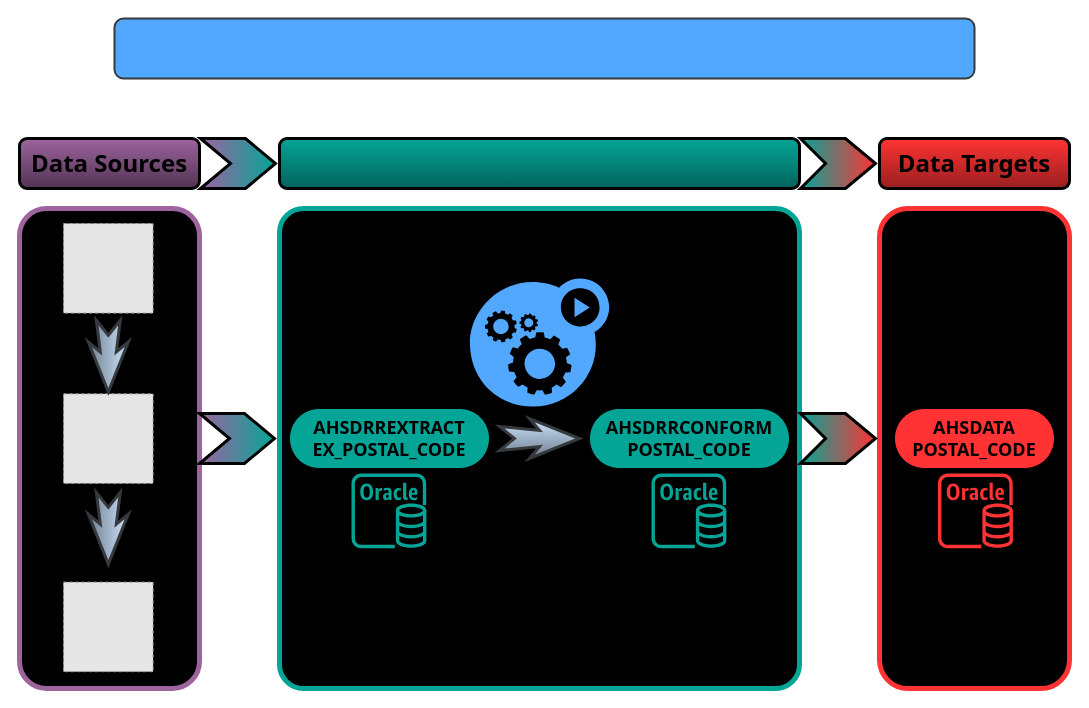
This 1089x708 diagram has some shape labels left out. Grey dashed boxes stand in for pictures. The box of each missing label's shape, as (x1, y1, x2, y2) in pixels:
Data Flow (ETL): (278, 136, 800, 190)
POSTAL CODE (Oracle): (113, 17, 975, 79)
